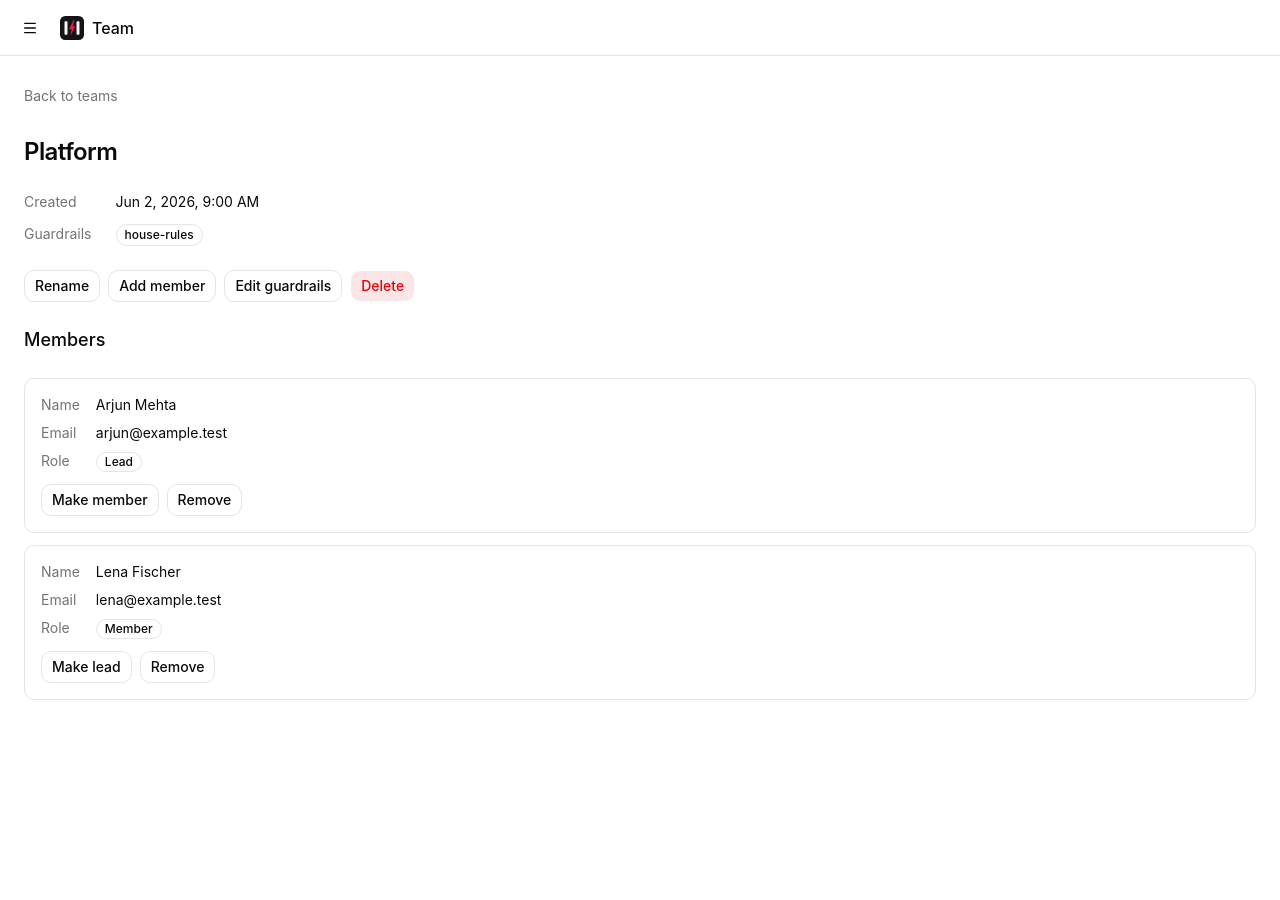
Test: the team page › a guardrail the gateway no longer has is said on the dialog
Click the button "Edit guardrails".
click(283, 286)  # box [224,270,342,302]
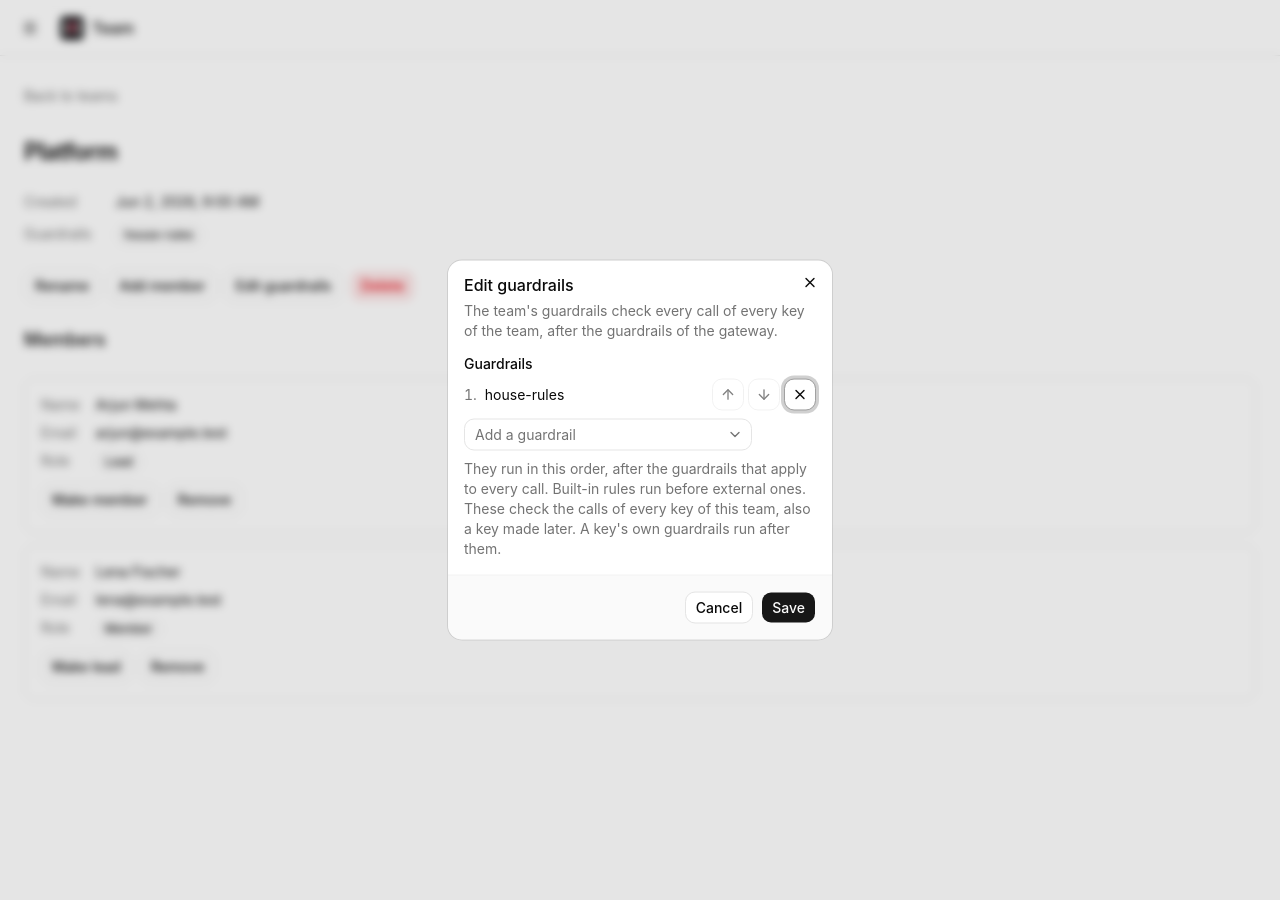
Click the button "Save".
click(789, 608)  # box [761,592,816,624]
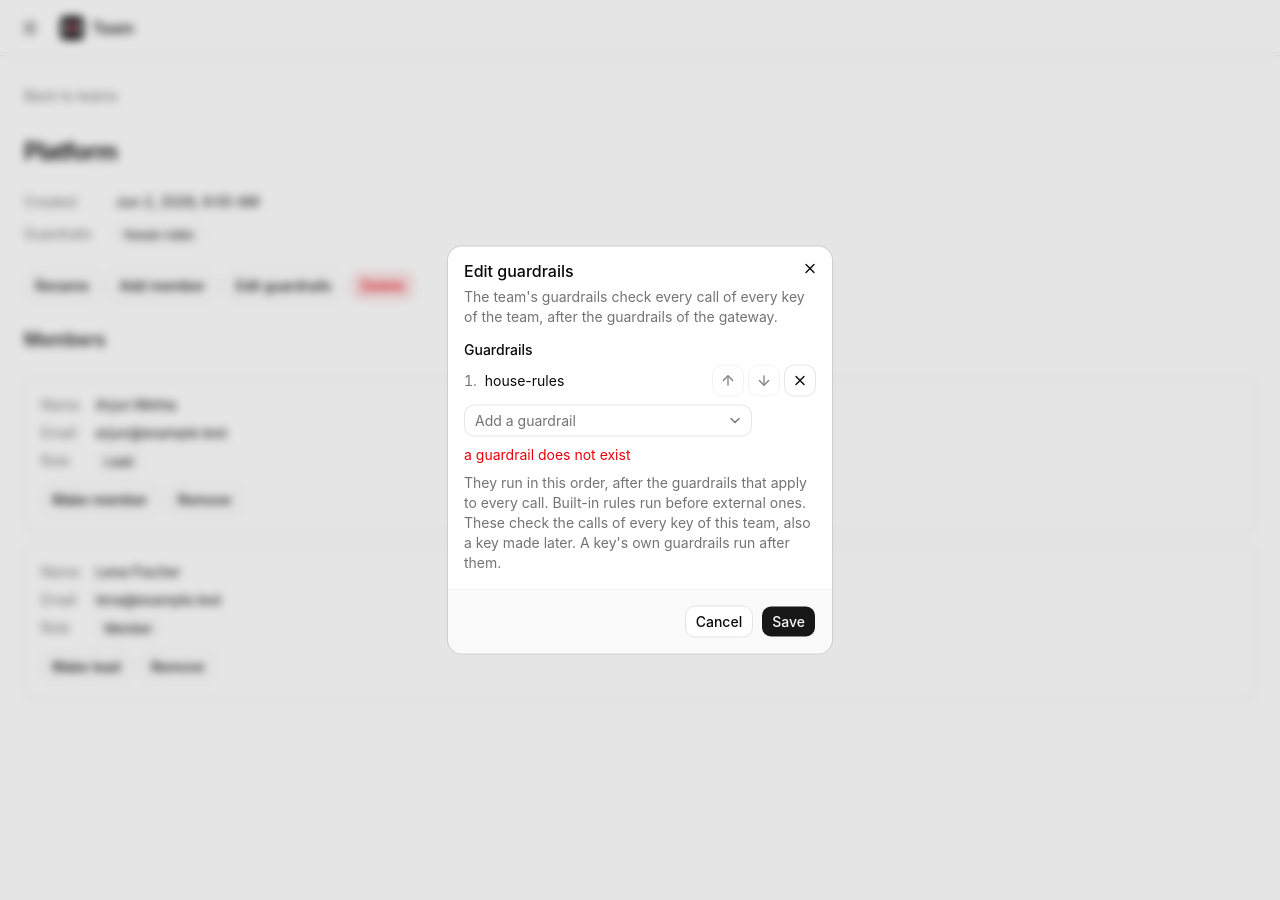
Expected: the text "a guardrail does not exist" is shown, [464,446,630,462]
